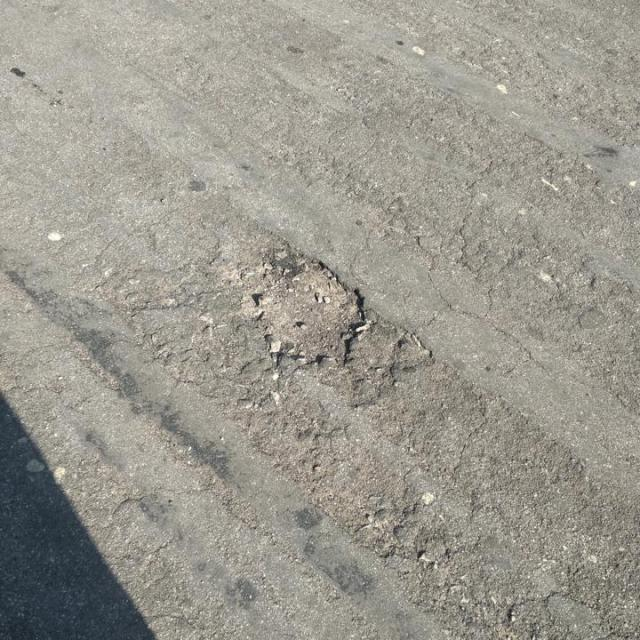pothole: (231, 247, 375, 373)
